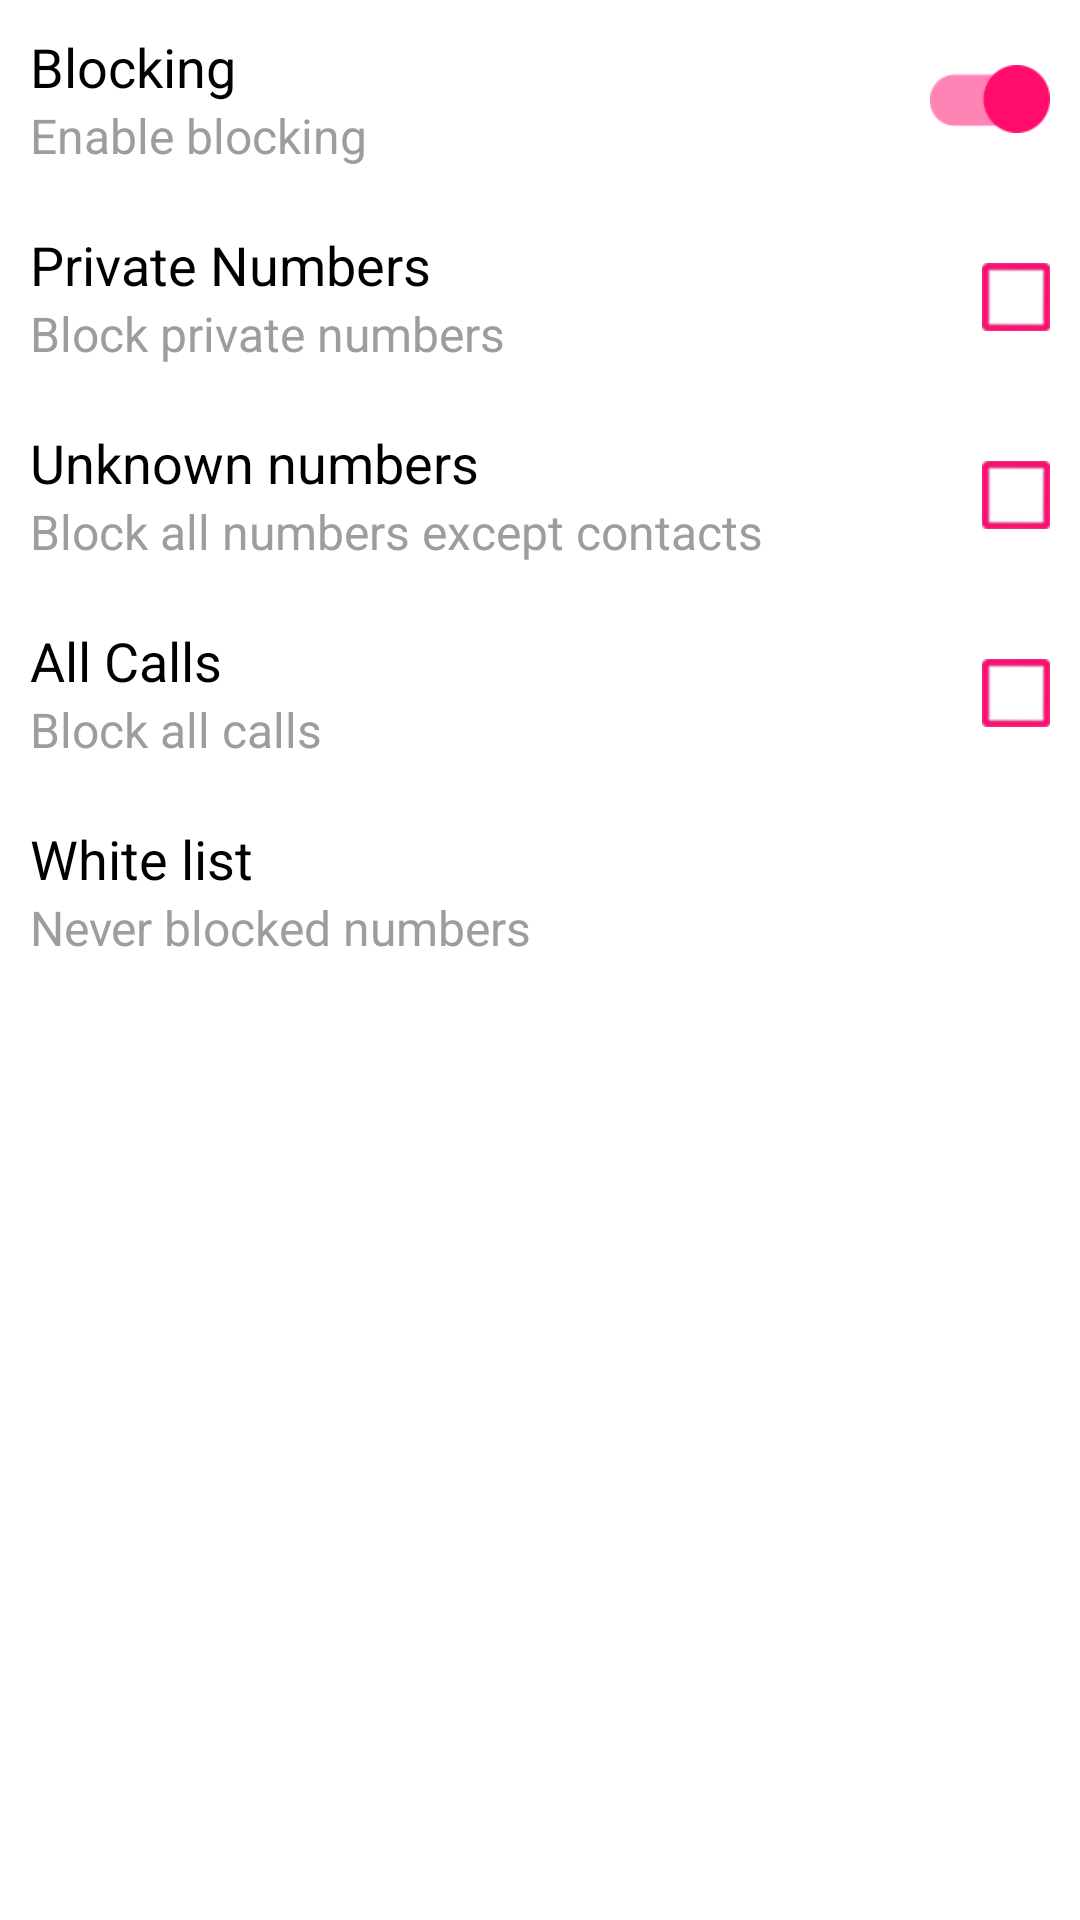

Icon bounding boxes for this 1080x1920 phone screenshot, format box=[x1, y1, x2, y2]:
check: box=[982, 263, 1050, 331], box=[982, 461, 1050, 529], box=[982, 659, 1050, 727]
switchon: box=[930, 65, 1050, 133]
